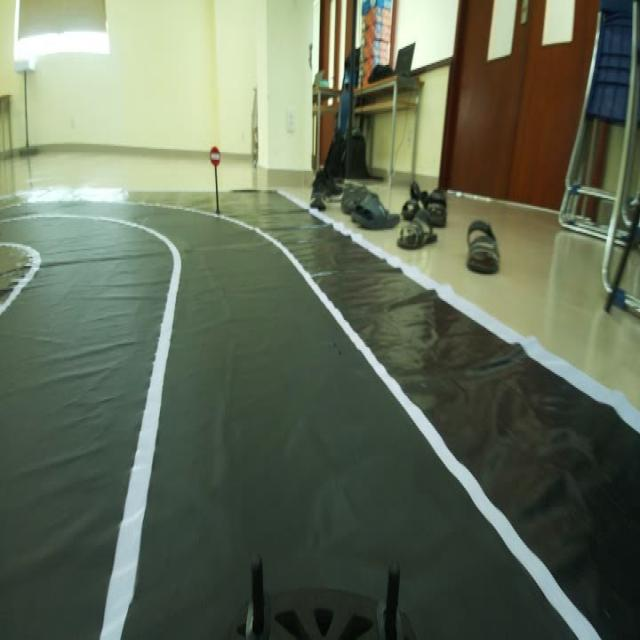no_entry: (206, 144, 224, 171)
